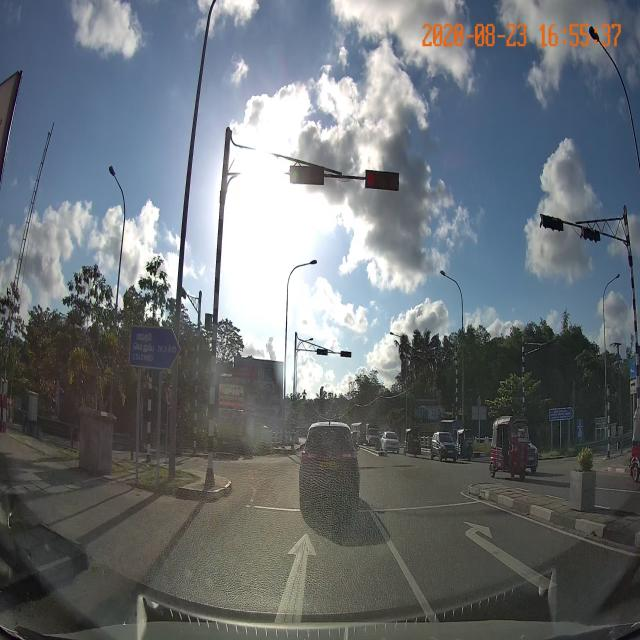Strelka vpered: (272, 528, 318, 626)
Strelka vpravo: (458, 519, 561, 596)
